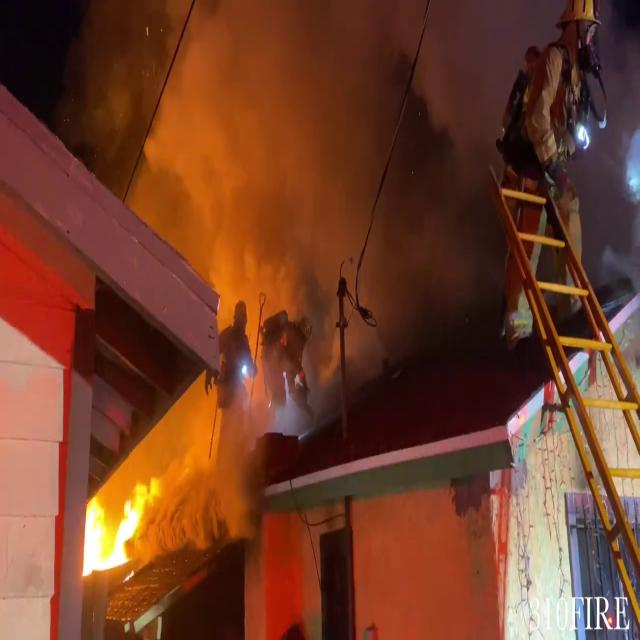Fire: (80, 468, 150, 580)
Smoke: (92, 0, 527, 372)
